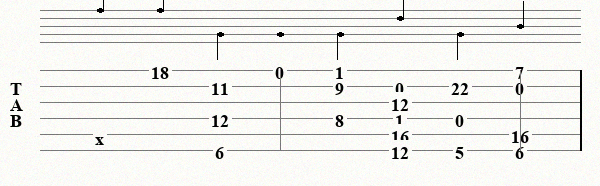0: (275, 62, 288, 78), (395, 78, 408, 94), (455, 110, 468, 126), (515, 78, 528, 94)
1: (335, 62, 348, 78), (395, 110, 408, 126)
11: (211, 78, 233, 94)
12: (211, 110, 233, 126), (391, 94, 413, 110), (391, 142, 413, 158)
16: (391, 126, 413, 142), (511, 126, 533, 142)
18: (151, 62, 173, 78)
22: (451, 78, 473, 94)
5: (455, 142, 468, 158)
6: (215, 142, 228, 158), (515, 142, 528, 158)
7: (515, 62, 528, 78)
8: (335, 110, 348, 126)
9: (335, 78, 348, 94)
x: (95, 128, 108, 140)
